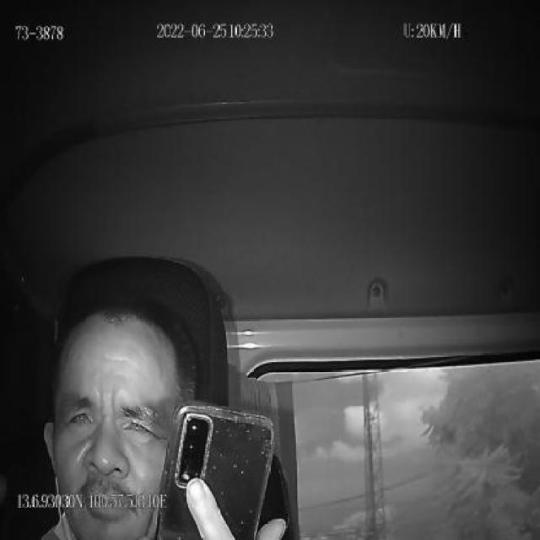phone: (156, 400, 274, 540)
